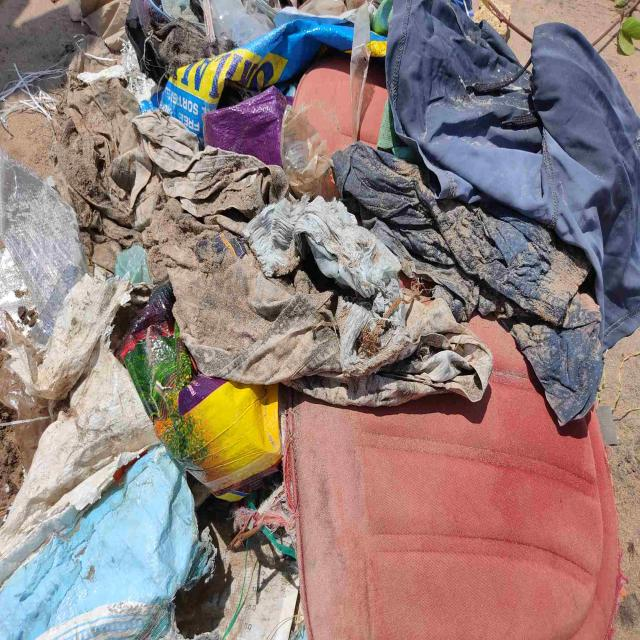nhua: (0, 154, 158, 584), (0, 446, 215, 640), (160, 12, 354, 143), (281, 104, 339, 199)
vai_vun: (289, 317, 620, 639), (386, 0, 640, 349), (333, 142, 604, 425), (168, 246, 493, 407), (244, 195, 401, 312), (163, 145, 288, 218), (132, 109, 199, 172)
